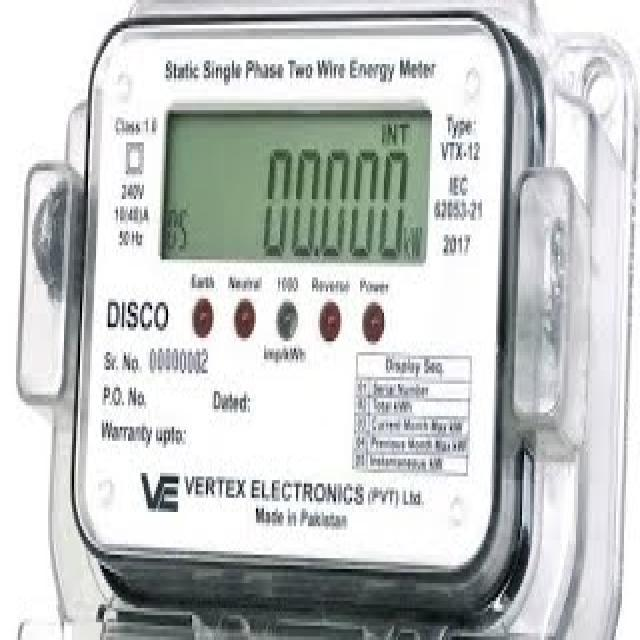.: (313, 247, 321, 259)
0: (258, 135, 292, 254), (322, 135, 350, 258), (352, 135, 380, 257), (381, 148, 408, 260), (293, 135, 316, 258)
Digital meter: (165, 114, 431, 263)
